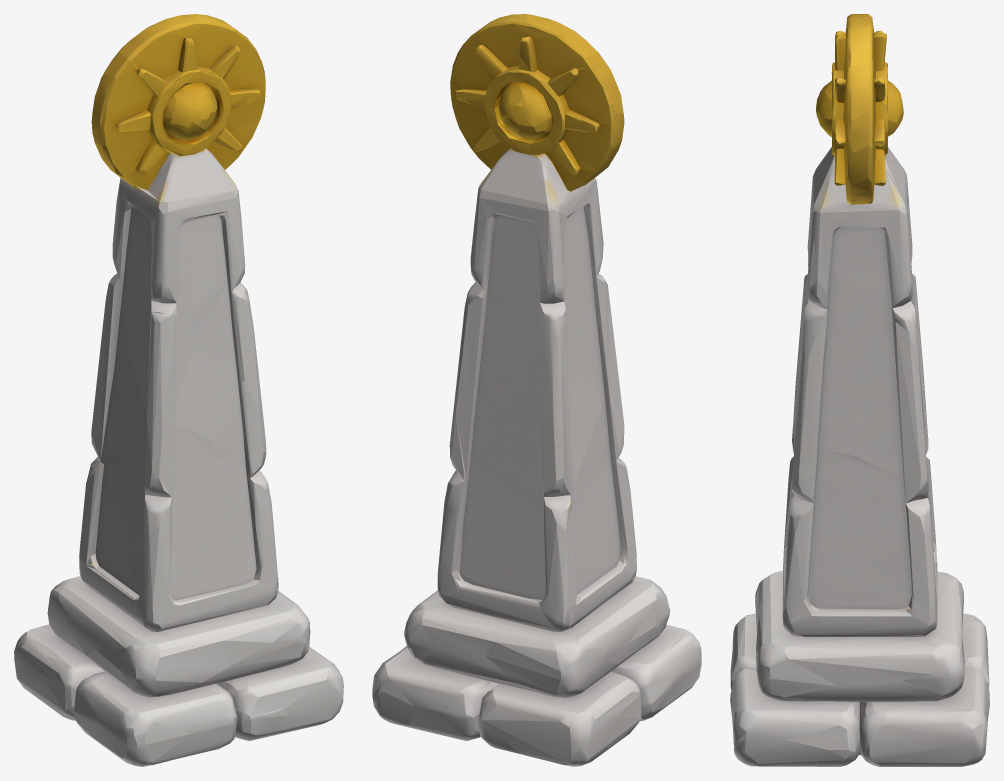
3 views of the same model, side by side, from view 1: azimuth 30°, elevation 25°; view 2: azimuth 150°, elevation 25°; view 3: azimuth 270°, elevation 25° (orthographic).
Size of the model in its own units: 0.6452 by 1.9 by 0.6445.
1 material, 1 textured.
